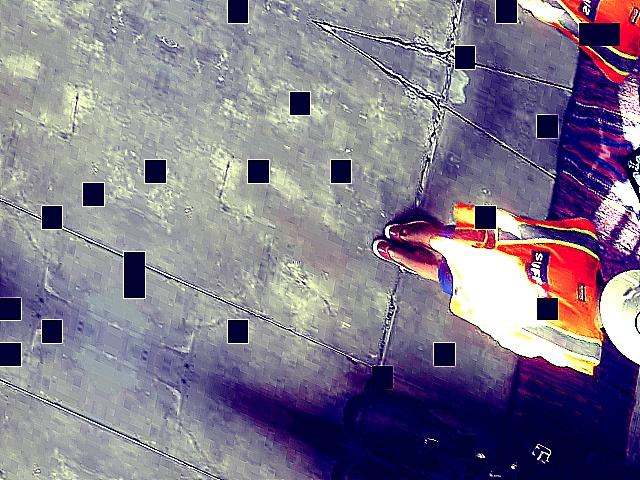two: (631, 302, 639, 352)
